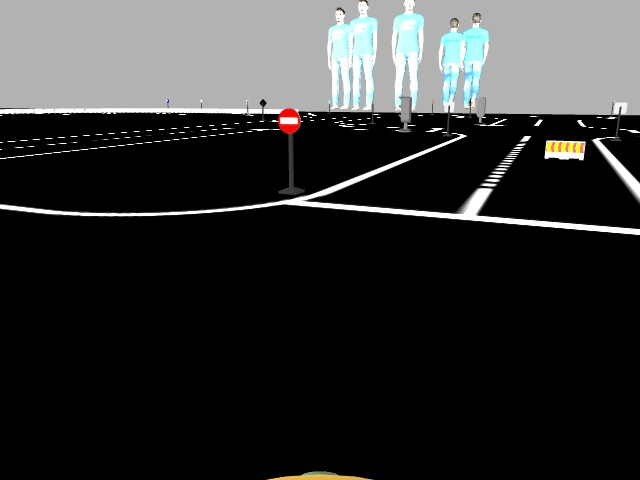ClosedRoadStand: (545, 141, 581, 161)
NoEntry: (280, 108, 301, 133)
